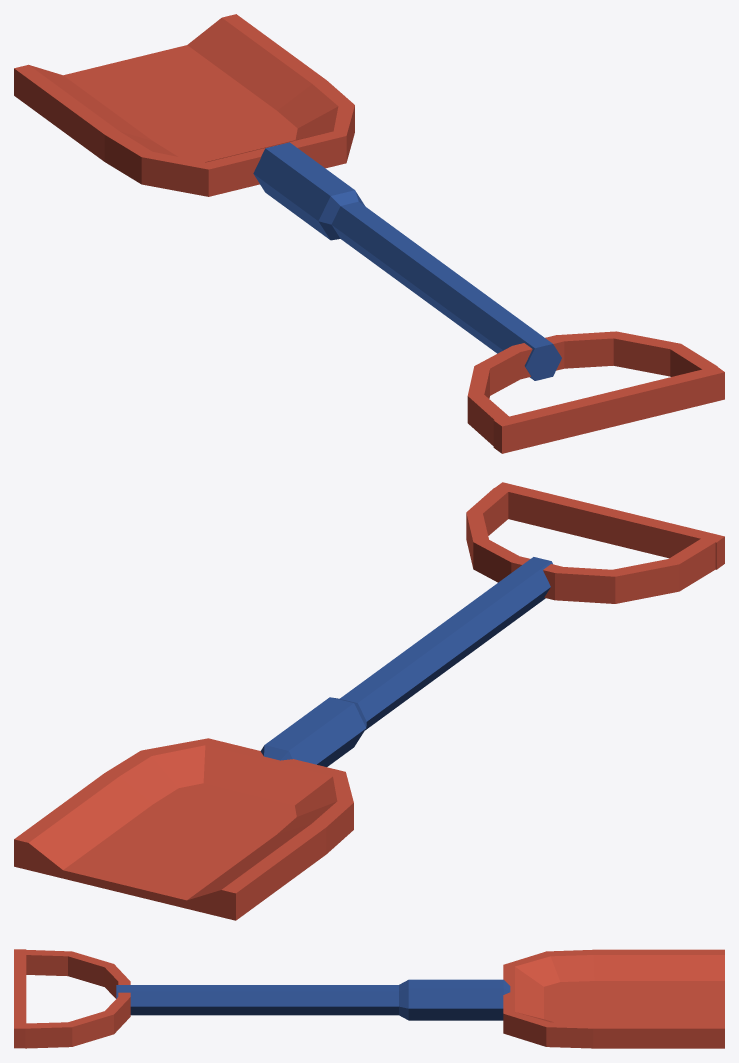
The model's file is SM_Toy_02.fbx.
3 views of the same model, one above another, from view 1: azimuth 30°, elevation 25°; view 2: azimuth 150°, elevation 25°; view 3: azimuth 270°, elevation 25° (orthographic). The views are drawn at different scales.
Parts seen in each view (by area): view 1: SM_Toy_02; view 2: SM_Toy_02; view 3: SM_Toy_02.
Boxes of the visible parts, x1,y1,x2,y2 form: SM_Toy_02: (14,14,724,453); SM_Toy_02: (14,482,724,920); SM_Toy_02: (14,949,724,1048).
Size of the model in its own units: 11.94 by 2.26 by 45.27.
